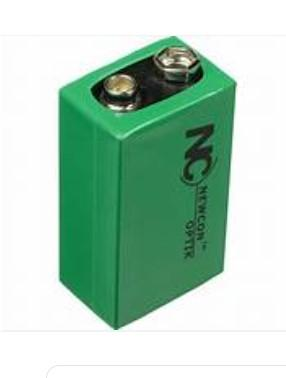9V Battery: (57, 36, 237, 332)
